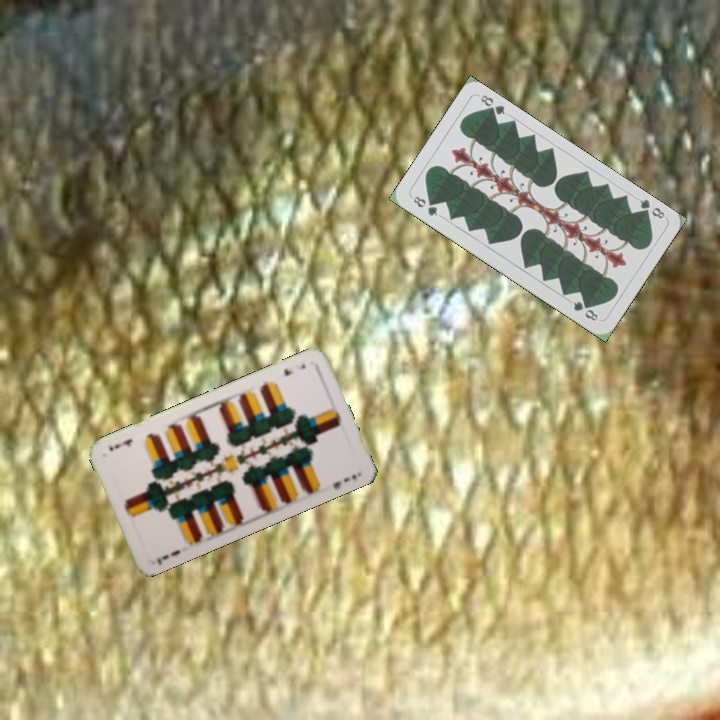E7: (153, 545, 182, 568), (280, 360, 308, 378)
G8: (409, 192, 440, 219), (635, 195, 667, 221)
